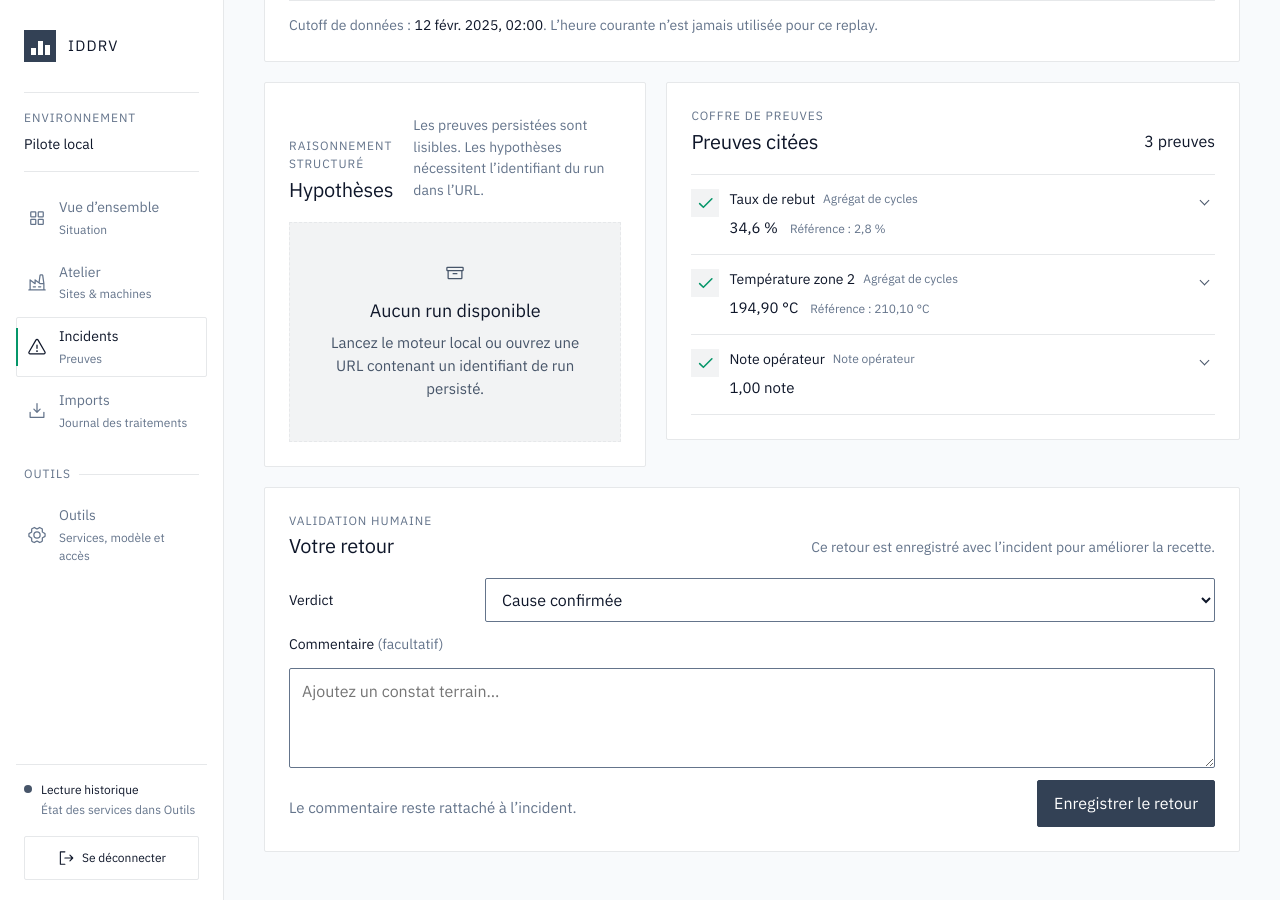
IncidentDetailPage › soumet un feedback terrain
The image size is (1280, 900).
(page scrolled)
Select "Cause rejetée" in the dropdown labelled "Verdict" at (850, 600), box [485,578,1215,622]
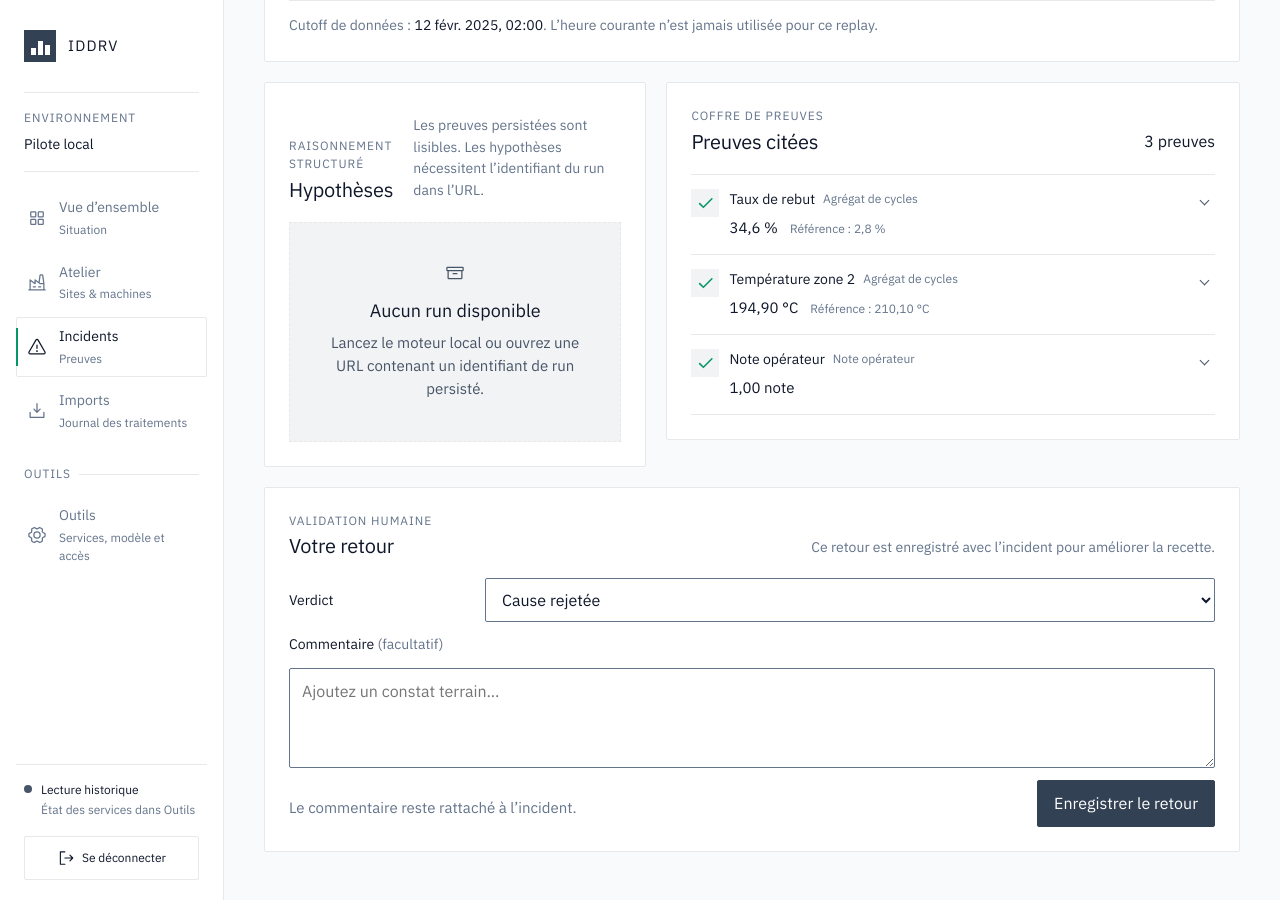
Type "Constat rejeté" into the text box labelled "Commentaire (facultatif)" at (752, 718), box [289,668,1215,768]
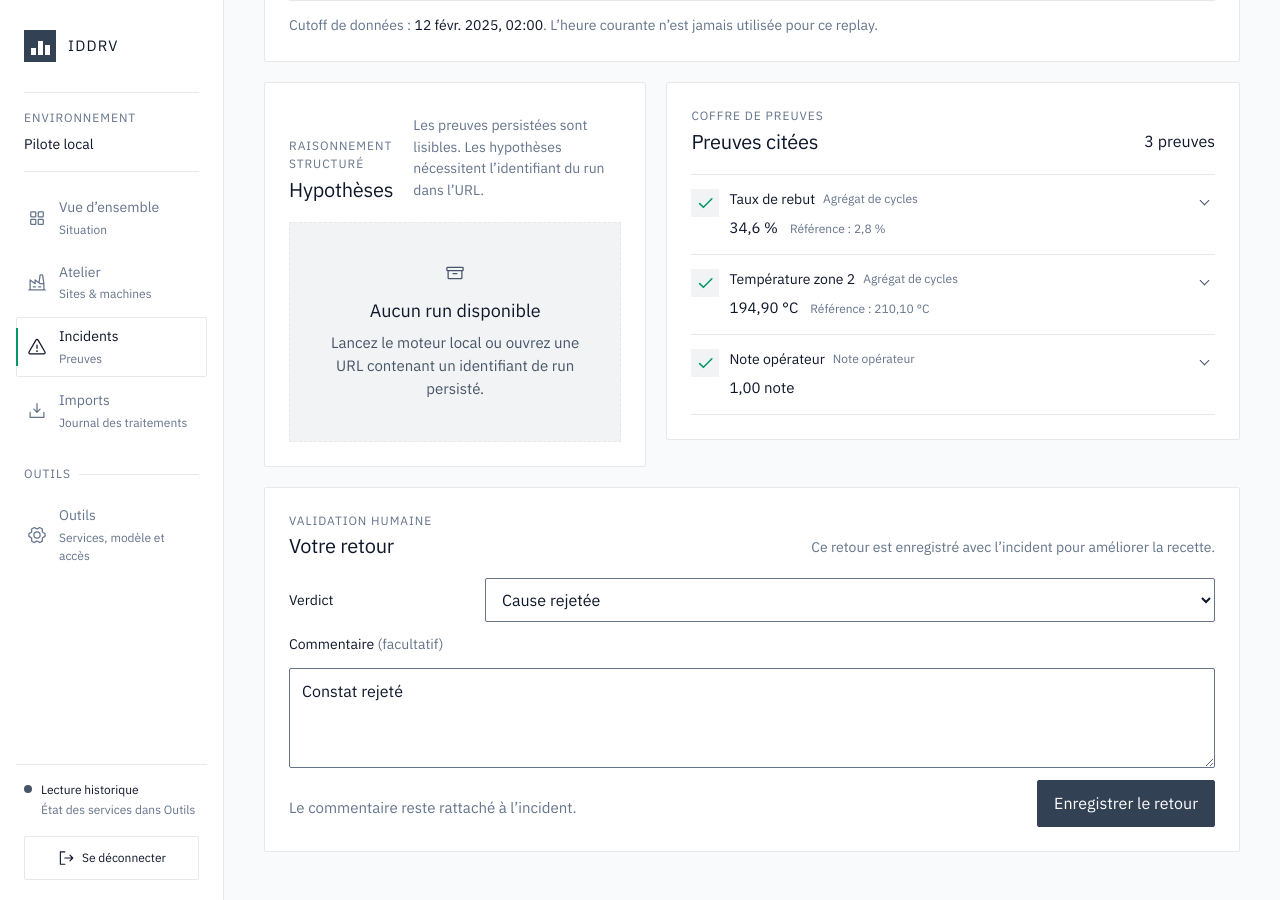
Click the button "Enregistrer le retour" at (1126, 804), box [1037,780,1215,827]
(page scrolled)
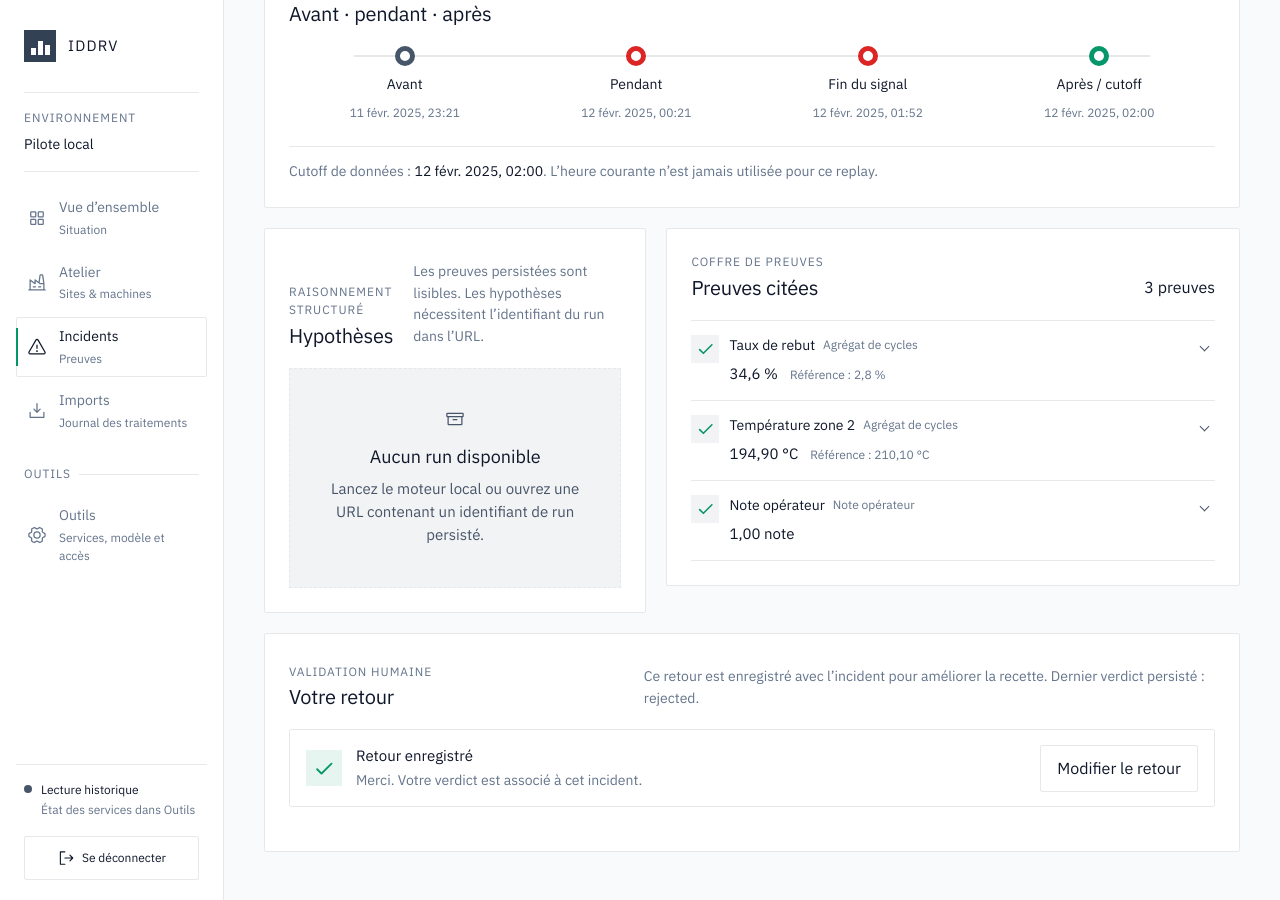
Now the text "Retour enregistré" is shown, box [356,746,473,765]
